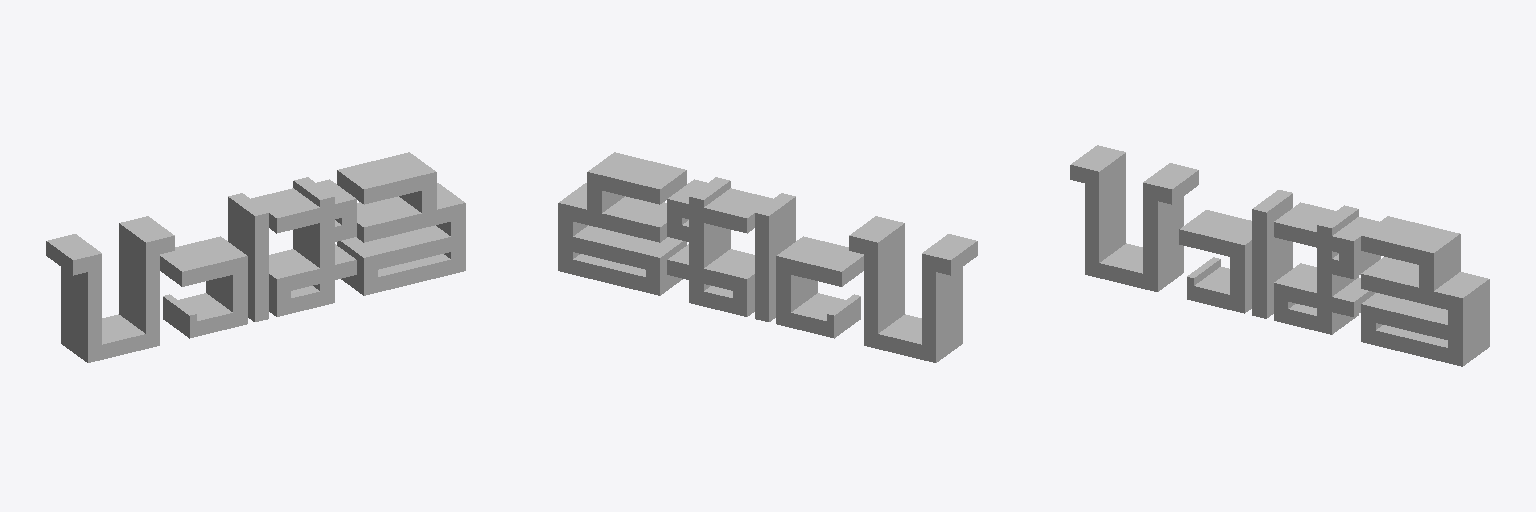
File: controlTextobj.obj
3 renders of one model, left to right at view 1: azimuth 30°, elevation 25°; view 2: azimuth 150°, elevation 25°; view 3: azimuth 330°, elevation 25°, orthographic.
Visible parts, largest first — view 1: テキスト; view 2: テキスト; view 3: テキスト.
Boxes of the visible parts, x1=… form: テキスト: x1=46, y1=152, x2=465, y2=362; テキスト: x1=558, y1=152, x2=977, y2=362; テキスト: x1=1070, y1=145, x2=1489, y2=366.
Size of the model in its own units: 3.38 by 0.875 by 0.4.